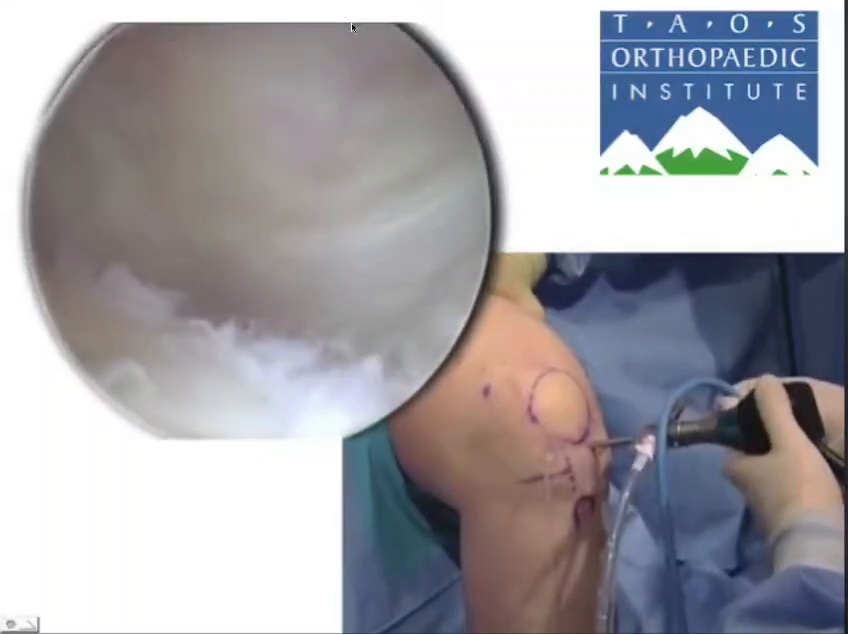arthroscope: (503, 268, 848, 616)
